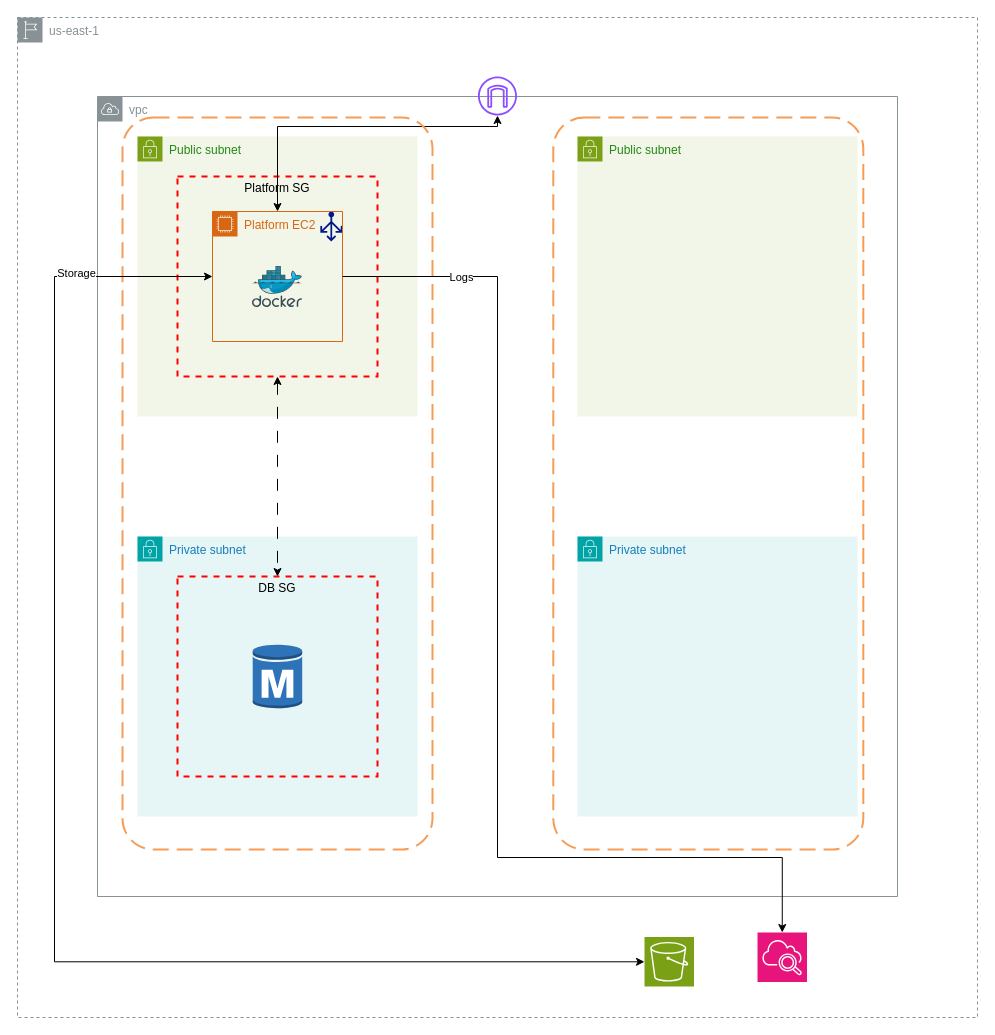
Some shapes in this 995 by 1035 pixel diagram are drawn without their labels. Each missing label, with the centre of its shape:
"CloudWatch" belongs at (781,957).
"nginx" belongs at (331,226).
"rds" belongs at (277,676).
"S3" belongs at (669,961).
